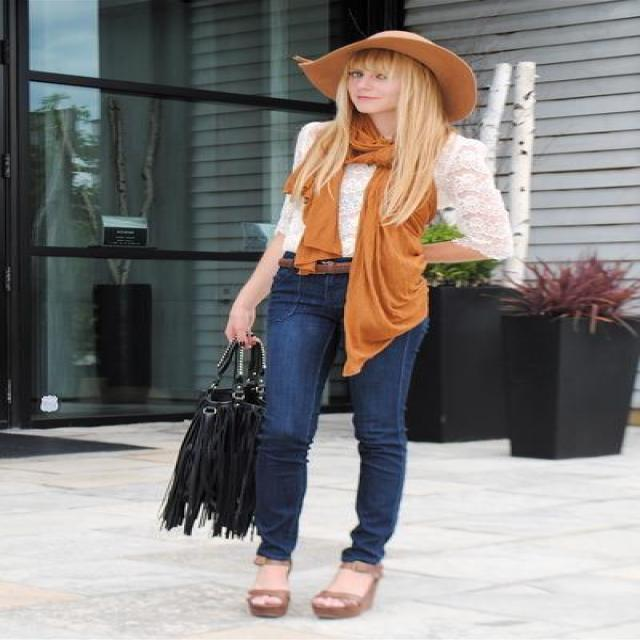bag: (165, 346, 270, 538)
hat: (302, 31, 485, 122)
pants: (251, 252, 427, 565)
shirt: (260, 141, 502, 256)
shoe: (246, 586, 373, 618)
